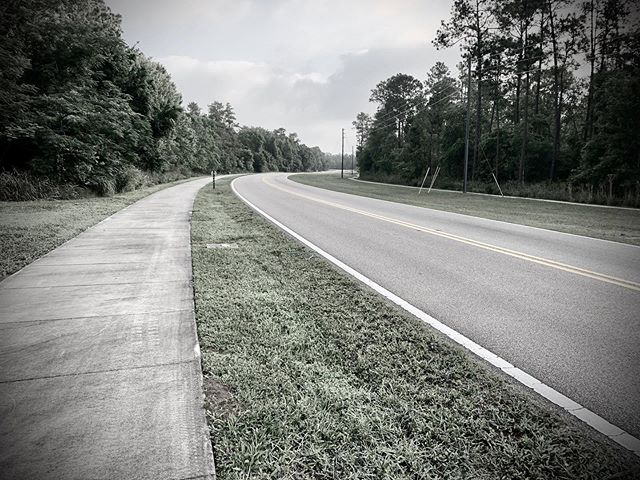road: (225, 168, 640, 480)
sky: (170, 1, 432, 117)
vegetation: (2, 1, 328, 187), (373, 1, 640, 183)
